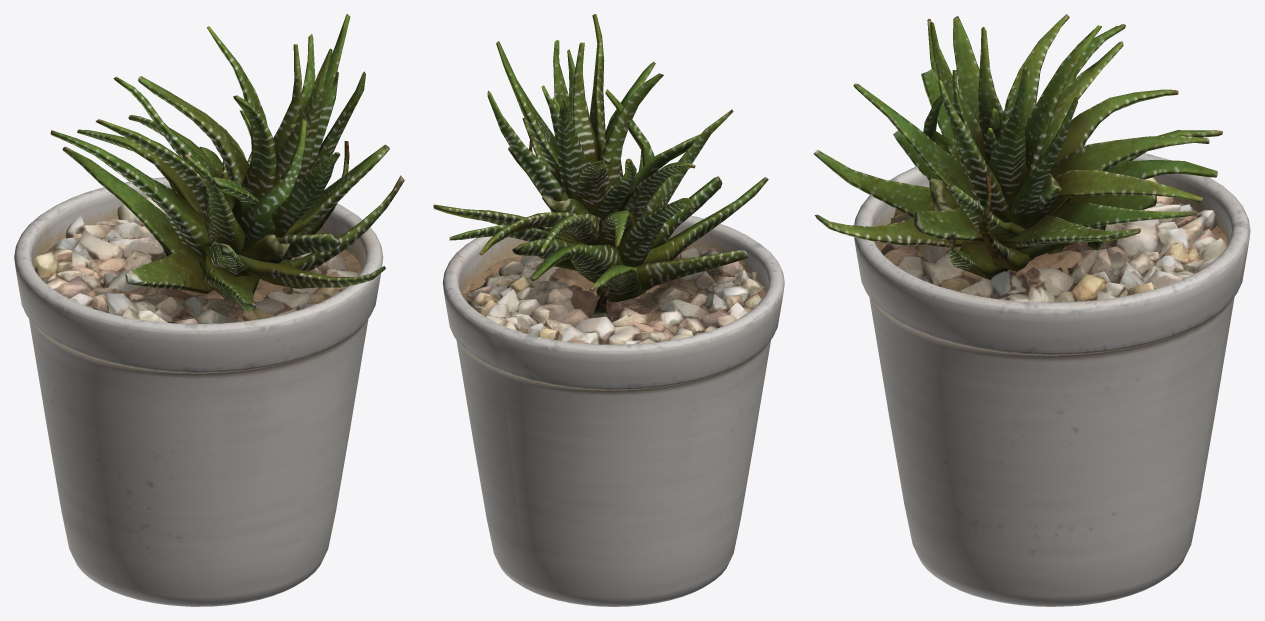
Rendered from potted_plant_04.glb.
3 renders of one model, left to right at view 1: azimuth 30°, elevation 25°; view 2: azimuth 150°, elevation 25°; view 3: azimuth 270°, elevation 25°, orthographic. The views are drawn at different scales.
Parts seen in each view (by area): view 1: potted_plant_04_pot, potted_plant_04_plant, potted_plant_04_ground, potted_plant_04_dirt; view 2: potted_plant_04_pot, potted_plant_04_plant, potted_plant_04_ground, potted_plant_04_dirt; view 3: potted_plant_04_pot, potted_plant_04_plant, potted_plant_04_ground, potted_plant_04_dirt.
Part boxes in pixels (<box>): potted_plant_04_pot: <box>14,177,383,606</box>; potted_plant_04_plant: <box>50,14,404,311</box>; potted_plant_04_ground: <box>34,196,357,323</box>; potted_plant_04_dirt: <box>34,238,362,307</box>; potted_plant_04_pot: <box>442,215,784,606</box>; potted_plant_04_plant: <box>433,14,768,314</box>; potted_plant_04_ground: <box>462,247,765,344</box>; potted_plant_04_dirt: <box>462,247,765,306</box>; potted_plant_04_pot: <box>854,144,1250,606</box>; potted_plant_04_plant: <box>813,14,1222,279</box>; potted_plant_04_ground: <box>881,177,1227,302</box>; potted_plant_04_dirt: <box>875,200,1228,297</box>.
Size of the model in its own units: 0.1679 by 0.2675 by 0.1848.
1 material, 1 textured.
